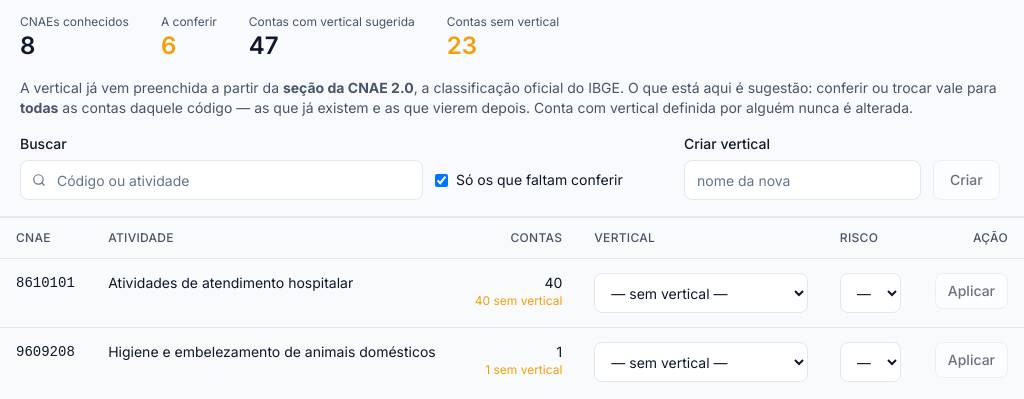
Scenario: DeParaCnaes › CNAE sem sugestão só habilita o botão depois de mudar alguma coisa
Check: the text "Atividades de atendimento hospitalar" is shown, box [108, 274, 353, 291]
Check: the button "Aplicar" in the row of "8610101" is disabled, box [935, 273, 1008, 309]
Select "Serviços" in the dropdown named "Vertical do CNAE 8610101". click: (701, 293)
box: [594, 273, 808, 313]
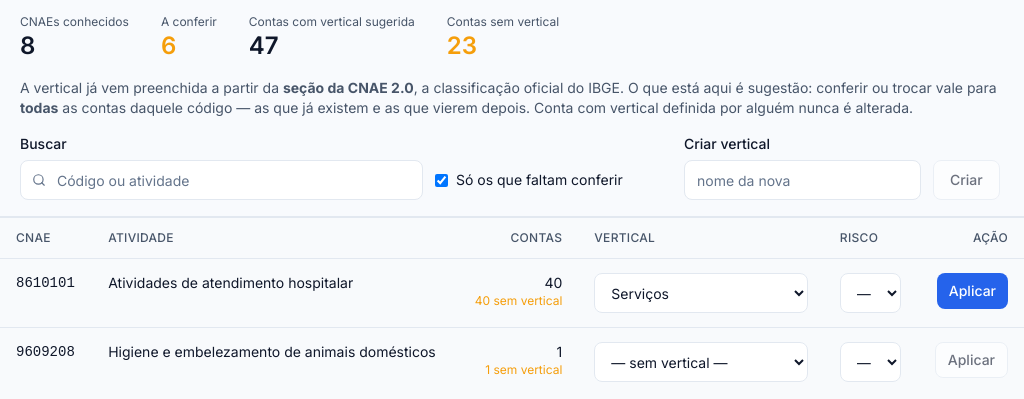
Check: the button "Aplicar" in the row of "8610101" is enabled, box [937, 273, 1008, 309]
